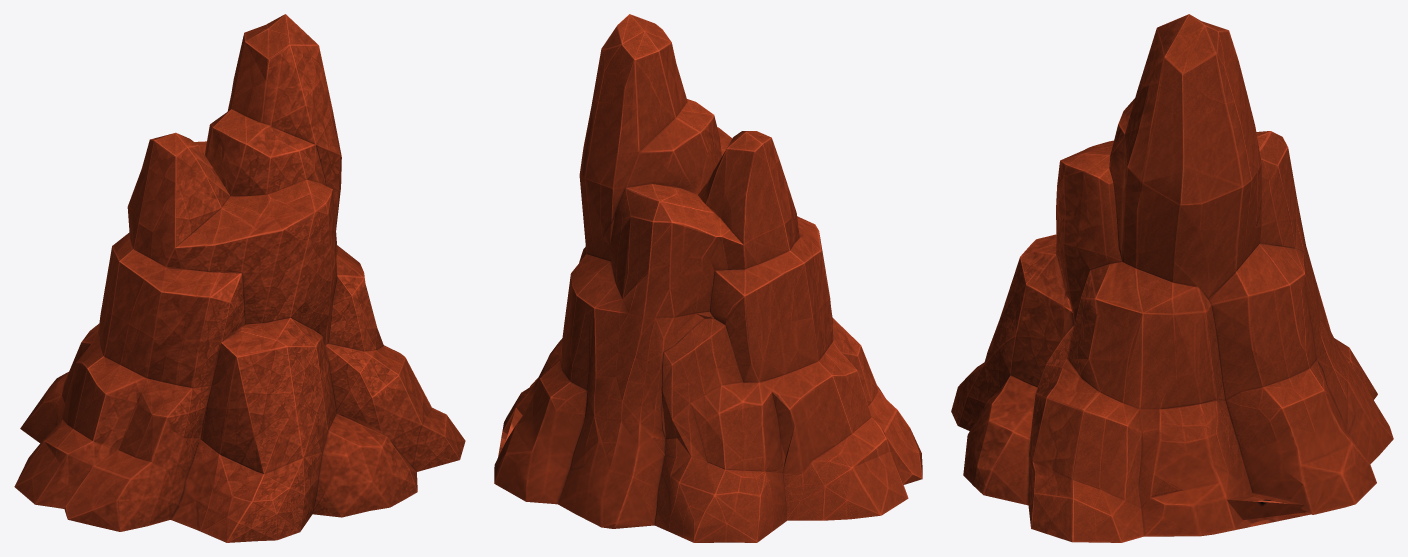
The model's file is desert_medium_2.glb.
The picture shows the model from 3 angles, left to right: view 1: azimuth 30°, elevation 25°; view 2: azimuth 150°, elevation 25°; view 3: azimuth 270°, elevation 25°; orthographic projection. The views are drawn at different scales.
Visible parts, largest first — view 1: output_unwrapped; view 2: output_unwrapped; view 3: output_unwrapped.
Part boxes in pixels (x1,y1,x2,y2): output_unwrapped: [14, 14, 465, 542]; output_unwrapped: [494, 14, 922, 542]; output_unwrapped: [951, 14, 1393, 542].
Size of the model in its own units: 1.85 by 1.9 by 1.66.
Materials: 1 (1 with a texture image).
